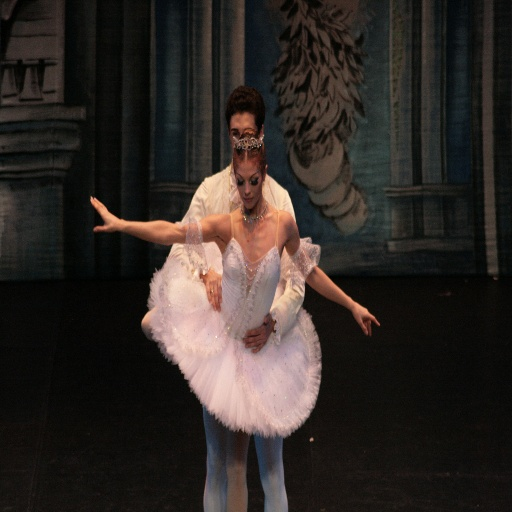hand: (343, 287, 379, 344), (89, 192, 122, 233), (242, 315, 275, 355), (204, 263, 224, 314)
